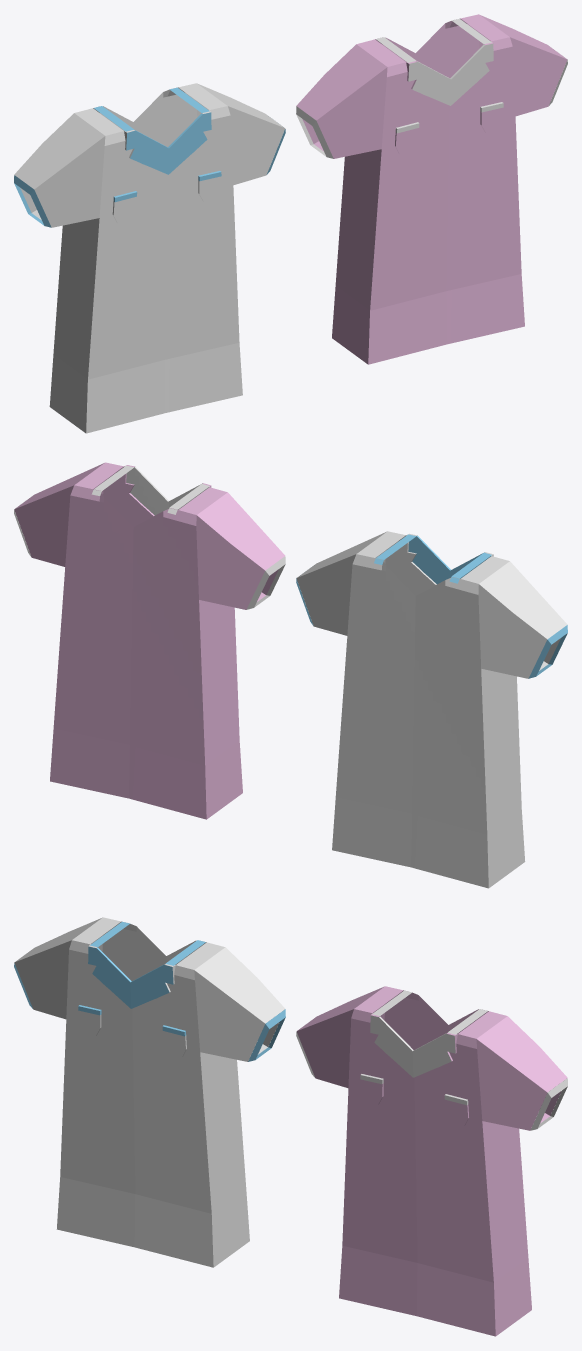
Rendered from nurseuniform.fbx.
3 views of the same model, one above another, from view 1: azimuth 30°, elevation 25°; view 2: azimuth 150°, elevation 25°; view 3: azimuth 330°, elevation 25° (orthographic).
Visible parts, largest first — view 1: main, main.001, neck, neck.001, Plane.001, Plane.002; view 2: main.001, main, neck, neck.001, Plane.001, Plane.002; view 3: main.001, main, neck.001, neck, Plane.002, Plane.001.
Part boxes in pixels (x1,y1,x2,y2): main: (14, 83, 285, 433); main.001: (296, 14, 567, 364); neck: (94, 87, 211, 174); neck.001: (376, 18, 493, 105); Plane.001: (296, 59, 567, 158); Plane.002: (14, 129, 285, 227); main.001: (14, 462, 285, 819); main: (296, 531, 567, 888); neck: (374, 534, 491, 584); neck.001: (91, 465, 209, 515); Plane.001: (14, 510, 285, 609); Plane.002: (296, 578, 567, 678); main.001: (296, 986, 567, 1336); main: (14, 917, 285, 1267); neck.001: (370, 990, 487, 1077); neck: (88, 921, 205, 1008); Plane.002: (14, 963, 285, 1061); Plane.001: (296, 1032, 567, 1130).
Size of the model in its own units: 125 by 65.94 by 16.62.
